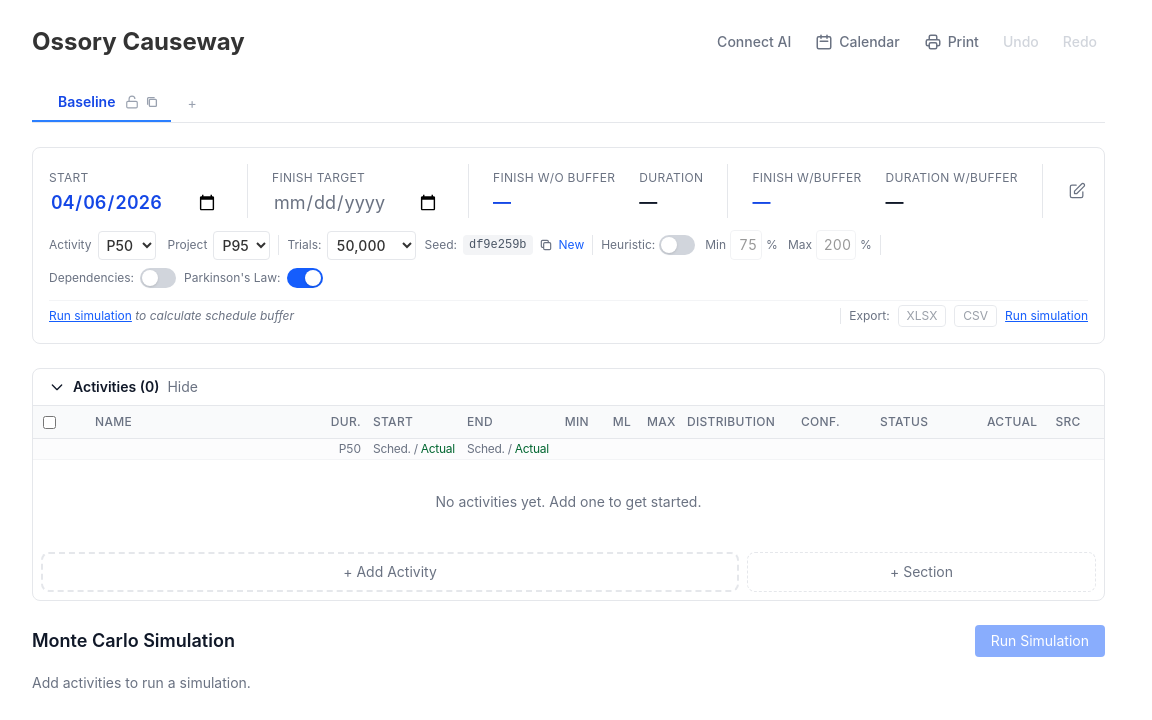
Test: FRAME26: a project's page on the frame › the rename input carries -ml-[9px] and w-full, so its text stays at the h1's edge and the whole name shows
Click the text "Ossory Causeway". click: [138, 42]
box: [28,25,249,58]
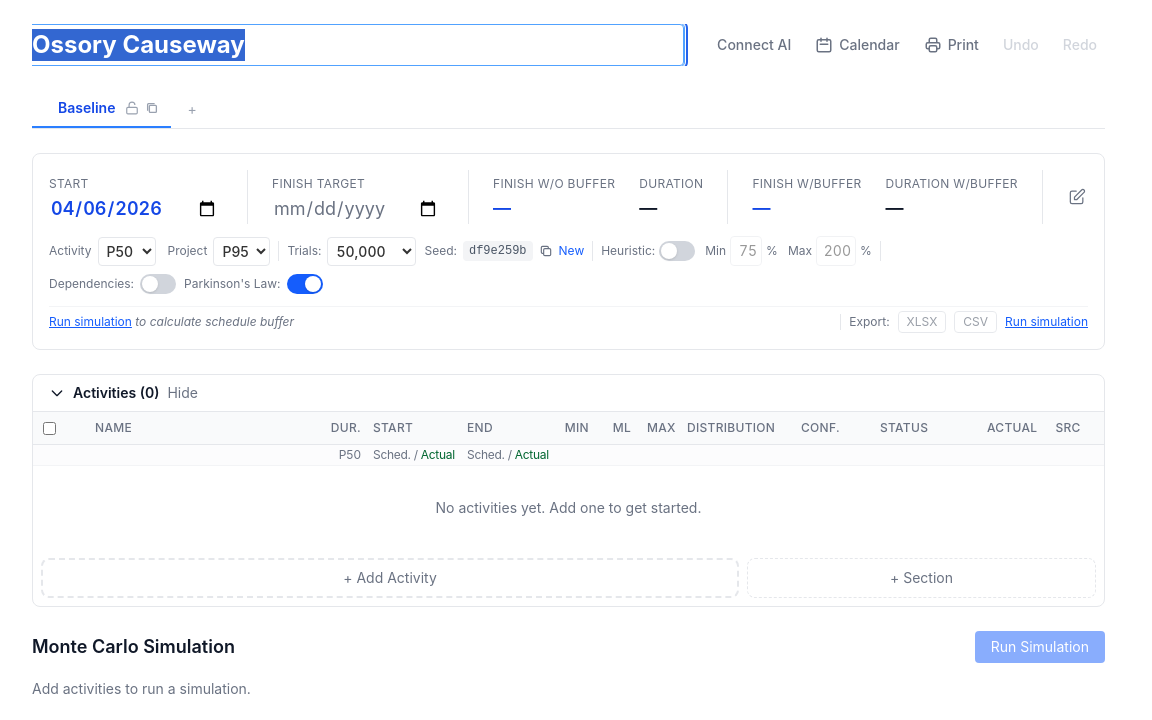
Now the field named "Project name" holds "Ossory Causeway", box [32,24,684,66]
